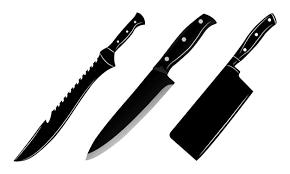Knife: (13, 11, 145, 161), (85, 12, 217, 160), (169, 12, 277, 160)
